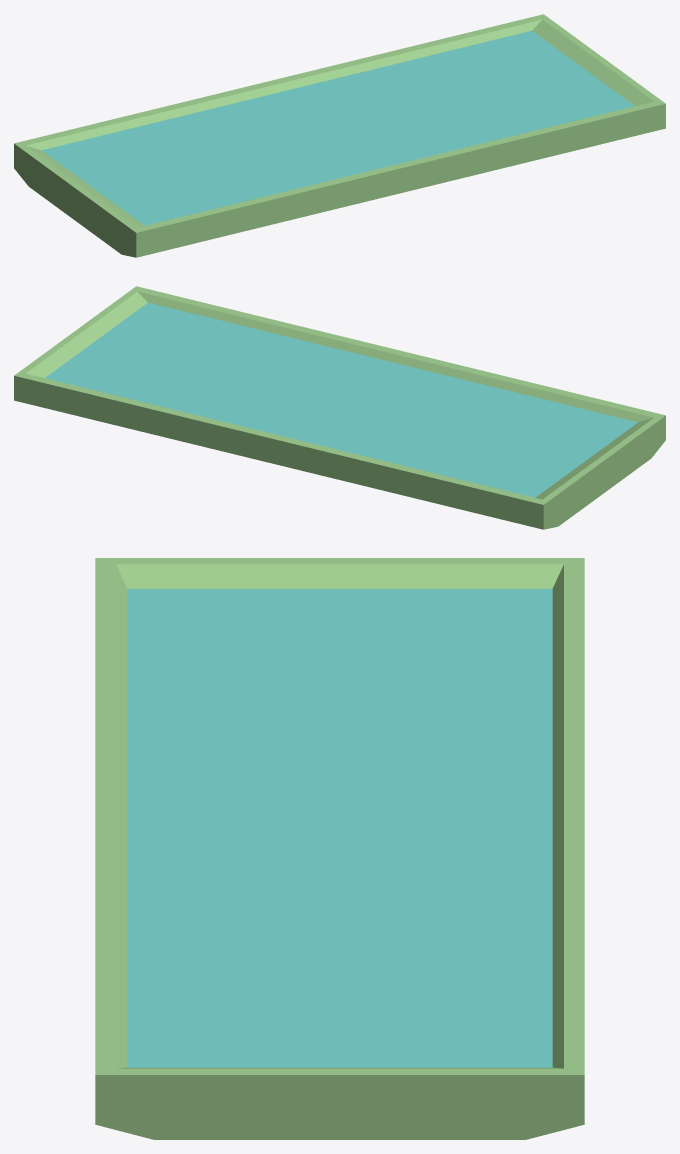
File: Phone.fbx
The picture shows the model from 3 angles, top to bottom: view 1: azimuth 30°, elevation 25°; view 2: azimuth 150°, elevation 25°; view 3: azimuth 270°, elevation 25°; orthographic projection. The views are drawn at different scales.
Visible parts, largest first — view 1: Phone; view 2: Phone; view 3: Phone.
Boxes of the visible parts, left/top/right/bottom form: Phone: left=14, top=14, right=665, bottom=257; Phone: left=14, top=286, right=665, bottom=529; Phone: left=95, top=558, right=584, bottom=1139.
Size of the model in its own units: 90.72 by 5.31 by 36.28.
